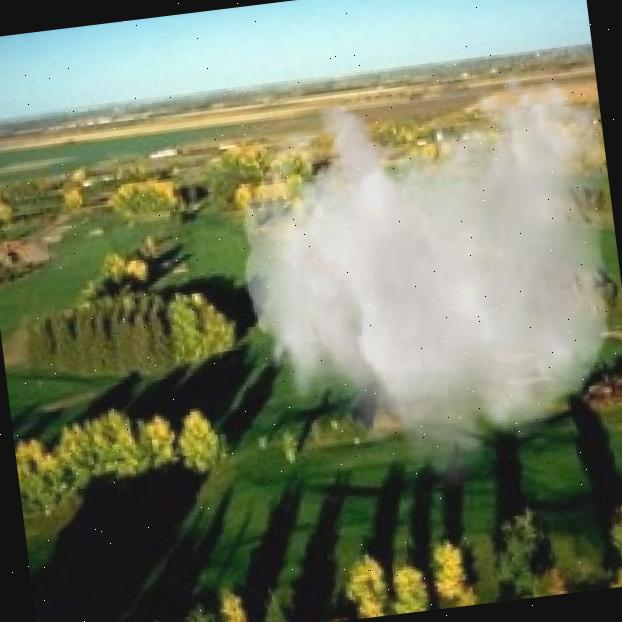smoke: (223, 58, 622, 517)
